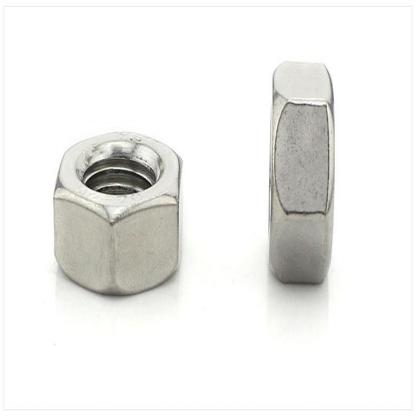FOD: (52, 125, 187, 301), (266, 58, 338, 291)
